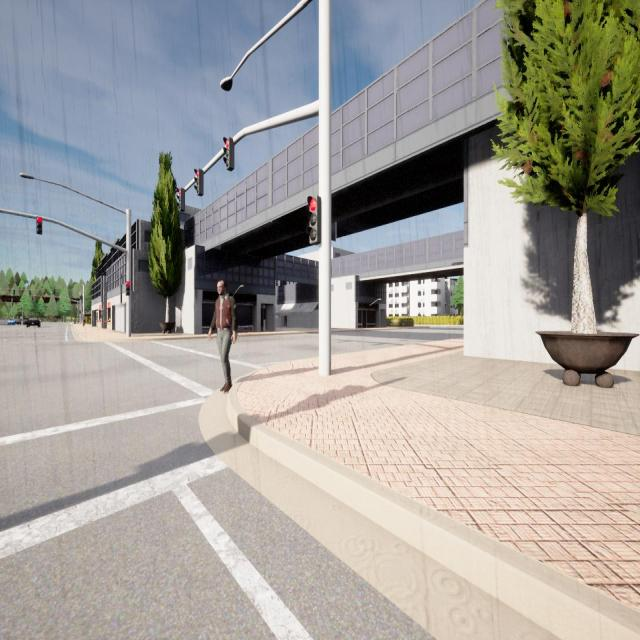Pedestrian: (208, 278, 237, 393), (82, 314, 86, 328)
Vehicle: (27, 317, 40, 327), (7, 318, 15, 326), (23, 318, 29, 325), (16, 319, 21, 325)
traffic_light: (307, 196, 321, 245), (223, 137, 234, 171), (194, 169, 204, 196), (177, 188, 185, 212), (36, 217, 42, 234), (126, 281, 130, 296), (13, 290, 15, 295), (29, 291, 31, 295), (32, 296, 33, 300), (44, 297, 45, 301), (58, 297, 59, 301), (80, 296, 81, 299), (81, 295, 82, 298)
